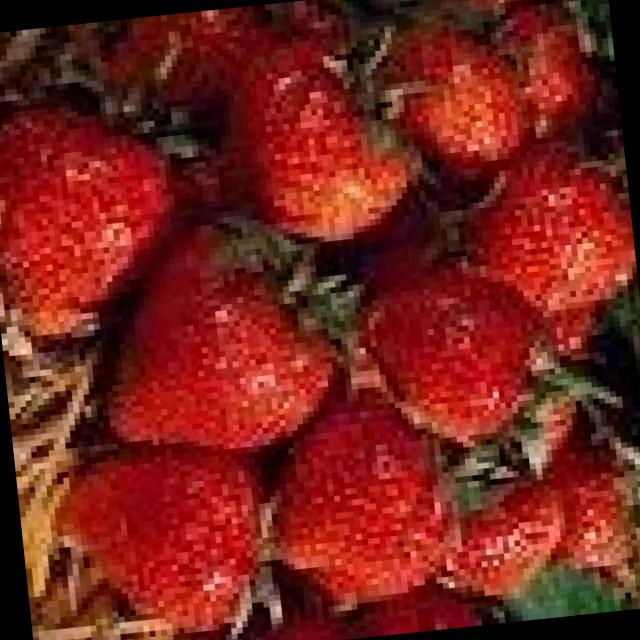strawberry: (88, 216, 358, 469), (0, 66, 196, 355), (224, 25, 429, 256), (261, 387, 458, 608), (58, 459, 288, 640), (460, 136, 632, 308), (367, 274, 539, 436)
